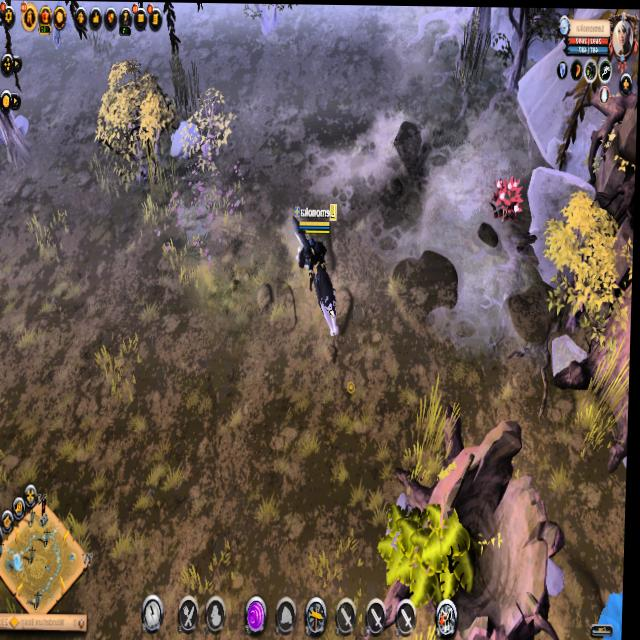fiber tier 5: (491, 166, 526, 221)
